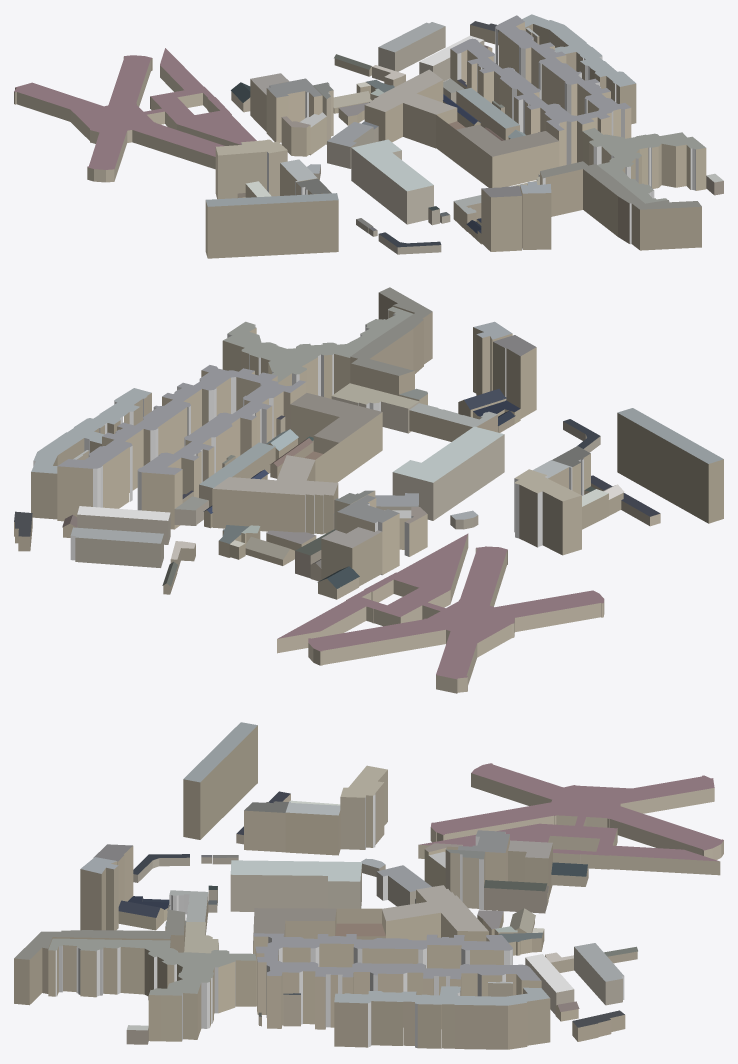
The picture shows the model from 3 angles, top to bottom: view 1: azimuth 30°, elevation 25°; view 2: azimuth 150°, elevation 25°; view 3: azimuth 270°, elevation 25°; orthographic projection. The views are drawn at different scales.
Visible parts, largest first — view 1: tuile; view 2: tuile; view 3: tuile.
Boxes of the visible parts, bbox=[...] form: tuile: bbox=[14, 14, 723, 258]; tuile: bbox=[14, 287, 723, 693]; tuile: bbox=[14, 722, 723, 1049].
Size of the model in its own units: 293 by 37.01 by 334.
